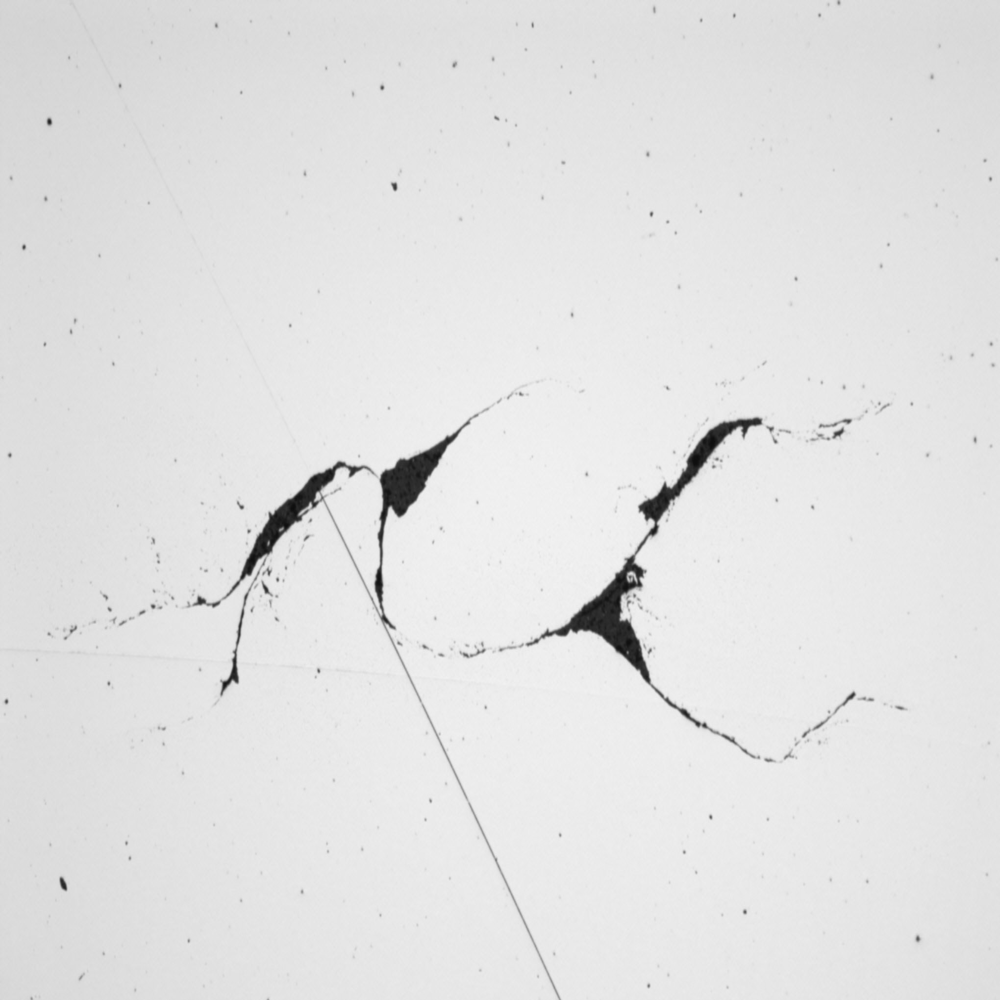crack: (41, 337, 960, 782)
